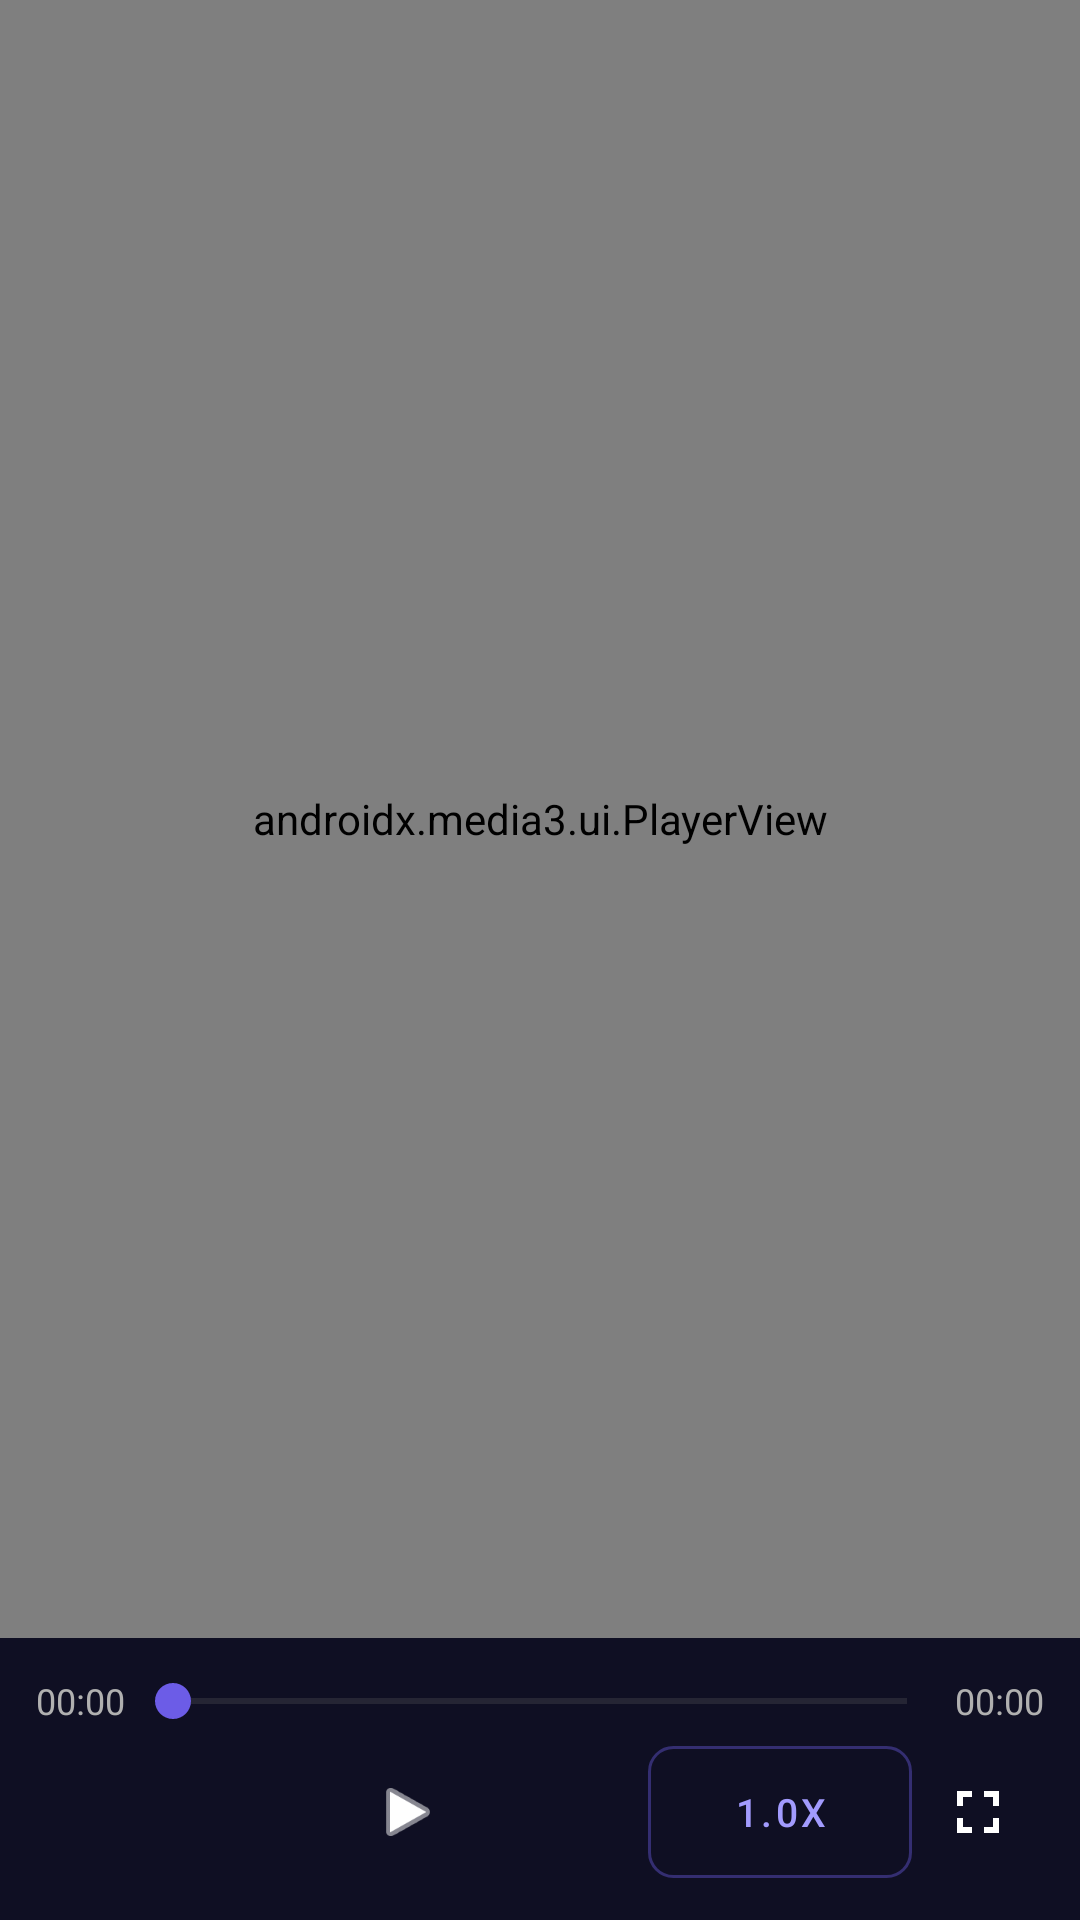

Screen size 1080*1920. Icon name, then its box in pixels as (x1=x1, y1=y1, x2=x2, y2=y2):
fullscreen: (x1=957, y1=1791, x2=999, y2=1833)
